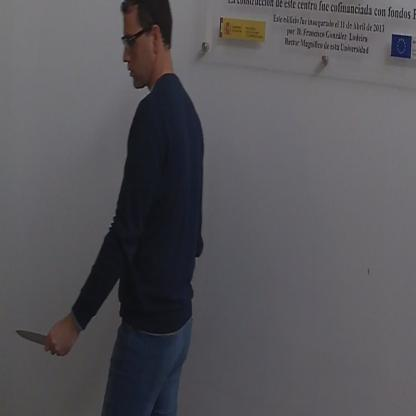knife: (10, 317, 62, 357)
